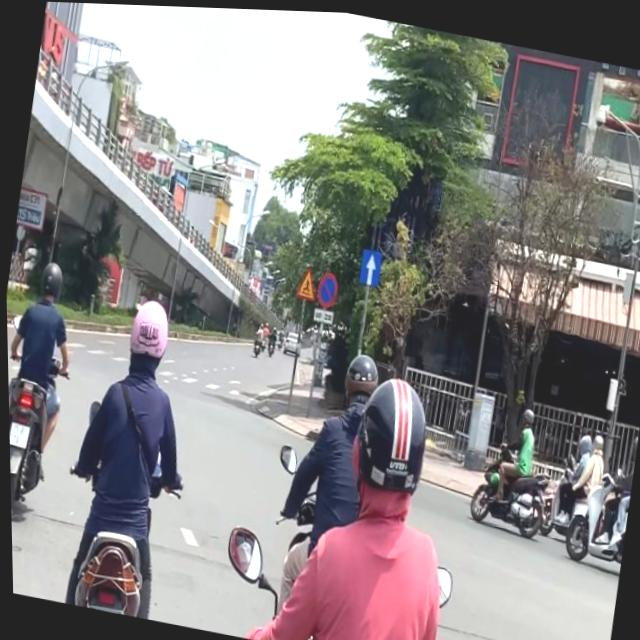Cam do xe: (314, 267, 339, 308)
Duong mot chieu: (357, 245, 383, 285)
Nguoi di bo cat ngang: (292, 261, 320, 300)
